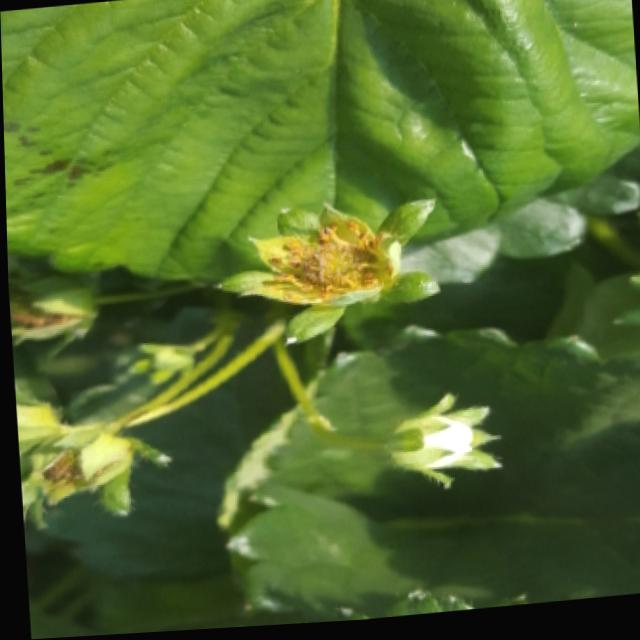Blossom Blight: (254, 217, 397, 312)
